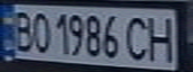1: (51, 10, 69, 55)
6: (100, 11, 127, 60)
8: (84, 11, 106, 57)
9: (66, 10, 84, 56)
B: (6, 7, 36, 53)
C: (121, 12, 154, 62)
H: (142, 12, 181, 63)
O: (27, 9, 54, 54)
